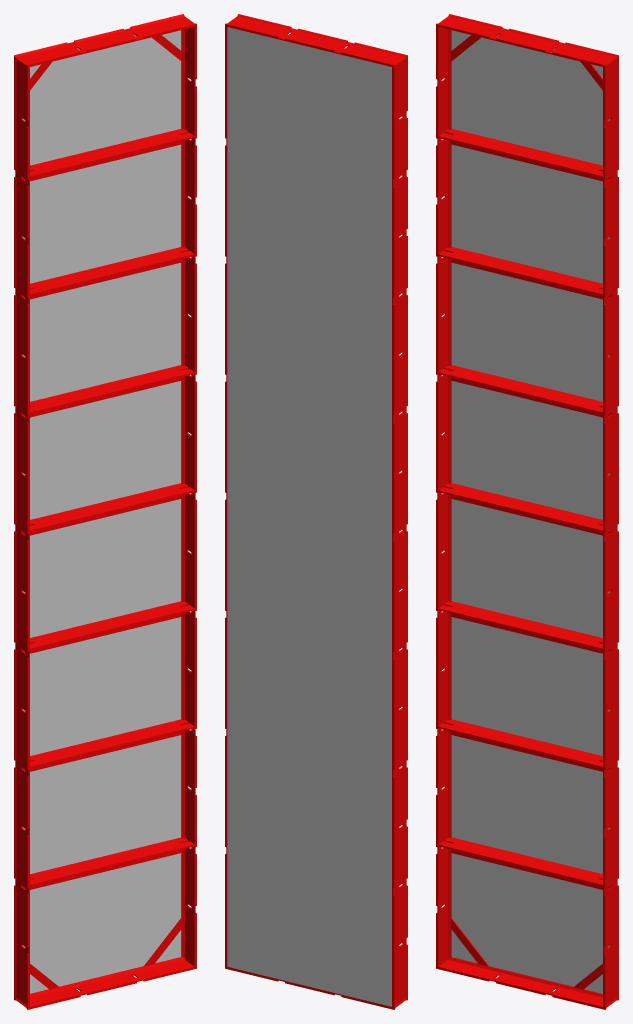
The picture shows the model from 3 angles, left to right: view 1: azimuth 30°, elevation 25°; view 2: azimuth 150°, elevation 25°; view 3: azimuth 330°, elevation 25°; orthographic projection.
Visible parts, largest first — view 1: Sp-18X8-P, Sp-18X8; view 2: Sp-18X8-P, Sp-18X8; view 3: Sp-18X8-P, Sp-18X8.
Boxes of the visible parts, box(x1,y1,x2,y2) form: Sp-18X8-P: box(22, 30, 181, 993); Sp-18X8: box(14, 14, 196, 1009); Sp-18X8-P: box(227, 27, 391, 1006); Sp-18X8: box(225, 14, 407, 1009); Sp-18X8-P: box(451, 30, 610, 993); Sp-18X8: box(436, 14, 618, 1009).
Size of the model in its own units: 18 by 96 by 2.5.
